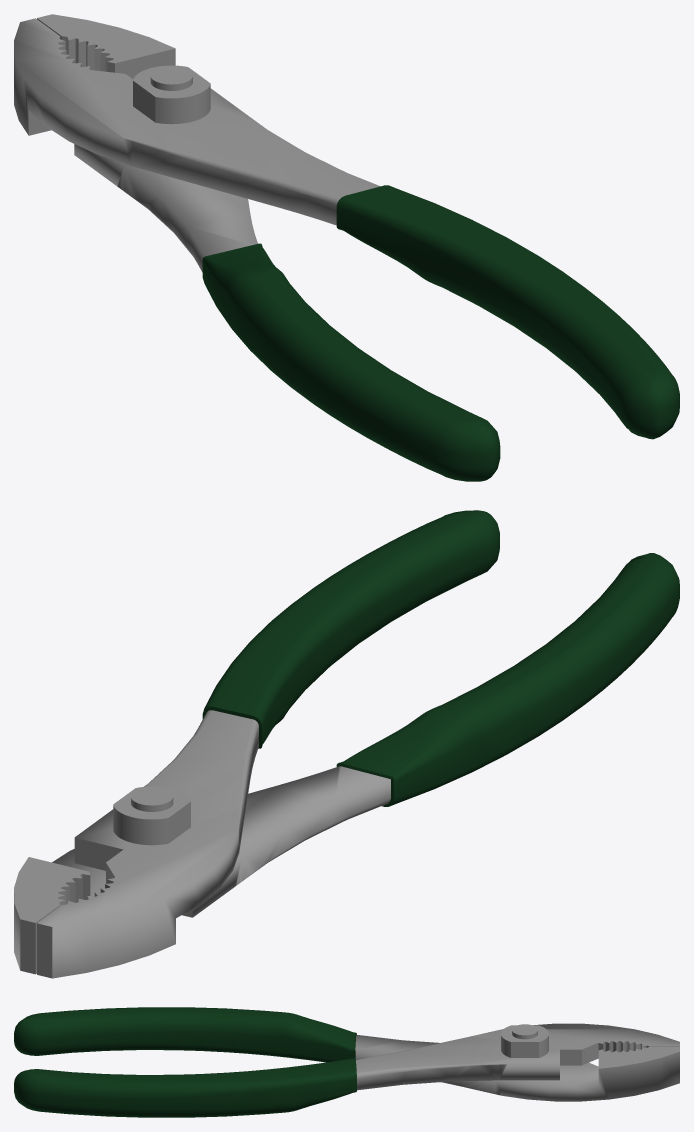
File: GZ_LiYuQian_v1.FBX
The picture shows the model from 3 angles, top to bottom: view 1: azimuth 30°, elevation 25°; view 2: azimuth 150°, elevation 25°; view 3: azimuth 270°, elevation 25°; orthographic projection. The views are drawn at different scales.
Visible parts, largest first — view 1: lvyuqian_bs_01, lvyuqian_bs_02, lvyuqian_ls; view 2: lvyuqian_bs_01, lvyuqian_bs_02, lvyuqian_ls; view 3: lvyuqian_bs_01, lvyuqian_bs_02, lvyuqian_ls.
Boxes of the visible parts, x1,y1,x2,y2 form: lvyuqian_bs_01: (14, 18, 679, 439); lvyuqian_bs_02: (37, 14, 500, 481); lvyuqian_ls: (133, 65, 210, 124); lvyuqian_bs_01: (37, 510, 499, 978); lvyuqian_bs_02: (14, 553, 679, 974); lvyuqian_ls: (113, 786, 190, 845); lvyuqian_bs_01: (14, 1023, 679, 1117); lvyuqian_bs_02: (14, 1007, 679, 1101); lvyuqian_ls: (501, 1024, 548, 1057).
Bounding box in the file's own units: 4.62 × 1.5 × 15.21.
